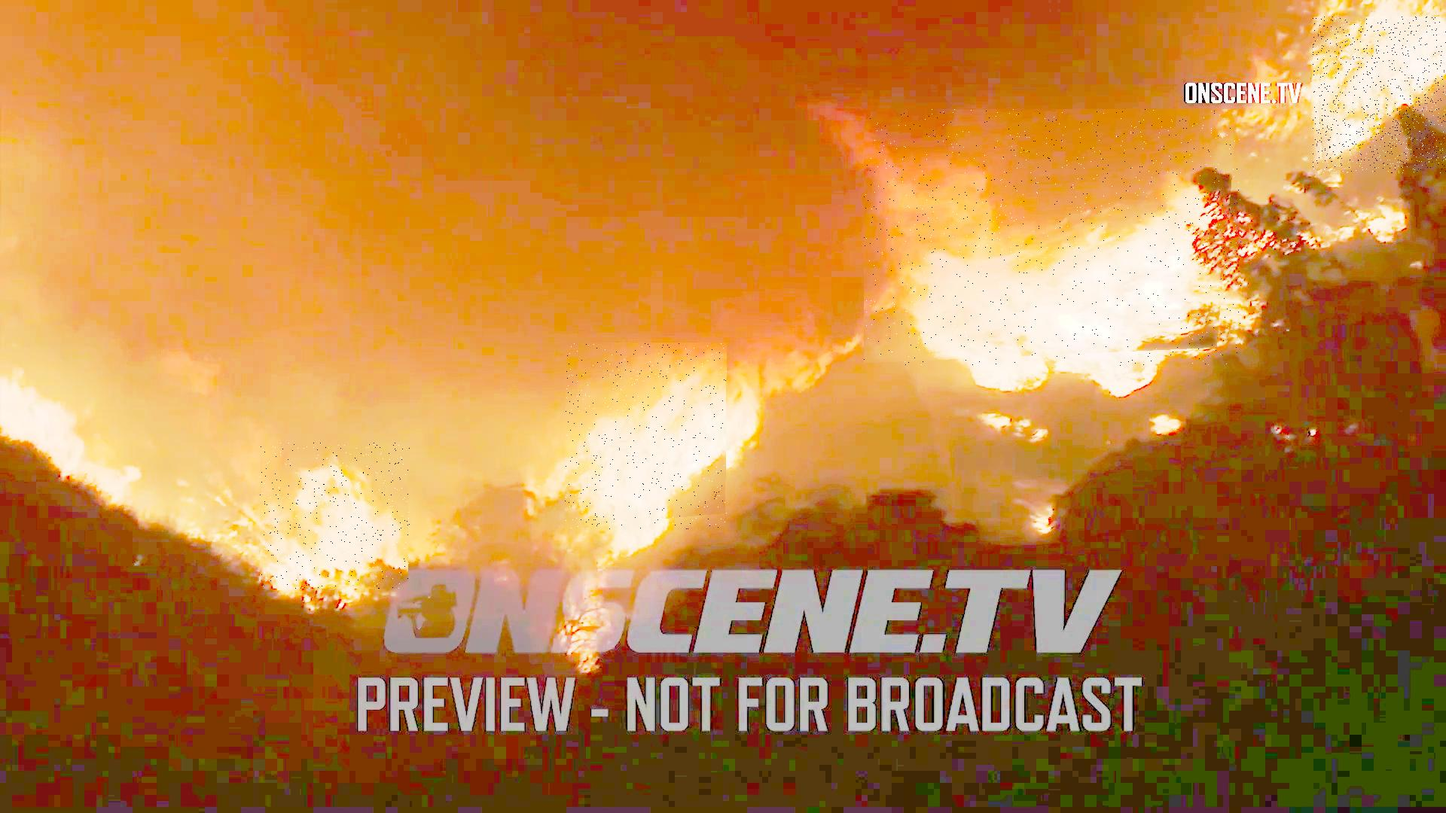fire: (865, 110, 1242, 366), (565, 343, 727, 530), (260, 443, 410, 589), (1313, 17, 1446, 174)
